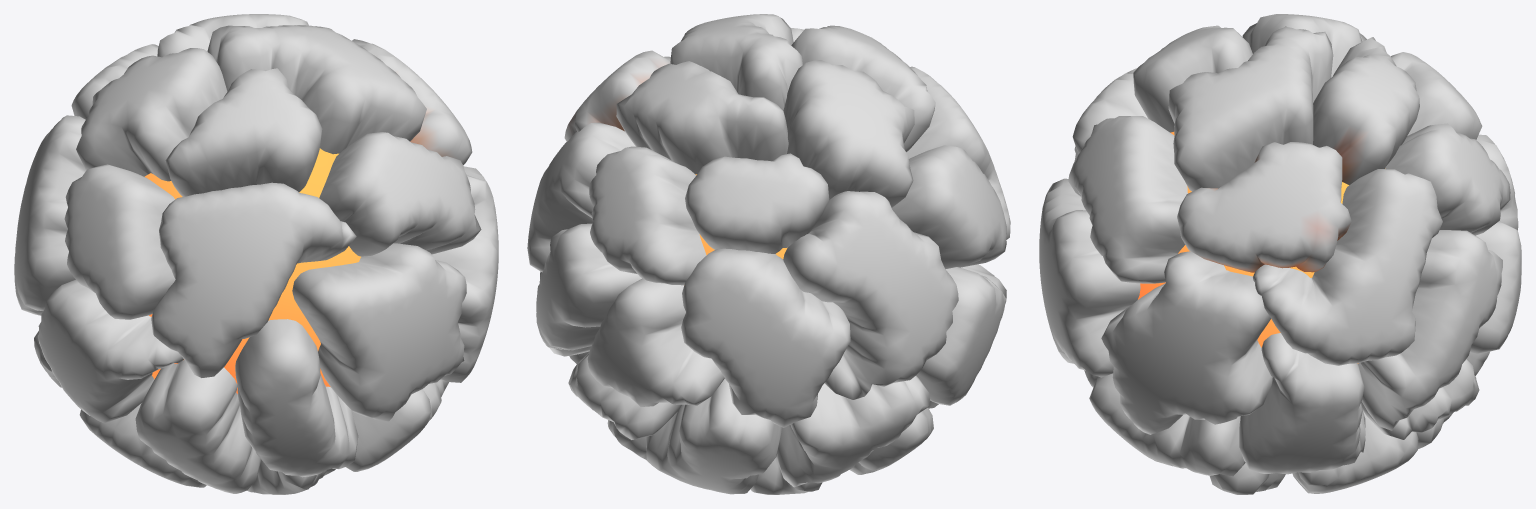
File: LavaPlanet.fbx
The picture shows the model from 3 angles, left to right: view 1: azimuth 30°, elevation 25°; view 2: azimuth 150°, elevation 25°; view 3: azimuth 270°, elevation 25°; orthographic projection.
Parts seen in each view (by area): view 1: LavaCore; view 2: LavaCore; view 3: LavaCore.
Boxes of the visible parts, bbox=[...] form: LavaCore: bbox=[14, 14, 498, 494]; LavaCore: bbox=[527, 14, 1010, 494]; LavaCore: bbox=[1039, 14, 1521, 494].
Size of the model in its own units: 209 by 210 by 209.
